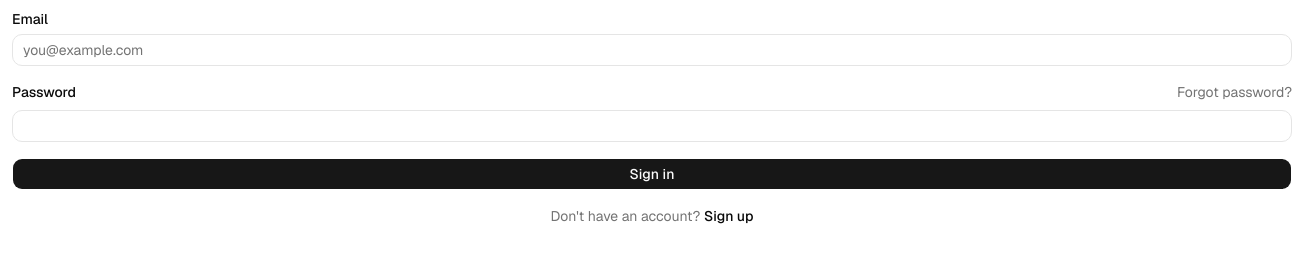
Test case: LoginForm › shows validation error for invalid email on blur
In the field labelled "Email": (652, 50) [12,34,1292,66], type "not-an-email"
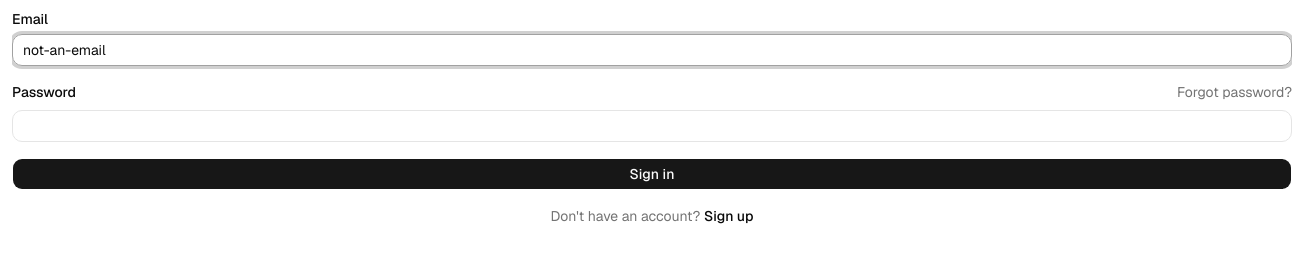
Press Tab
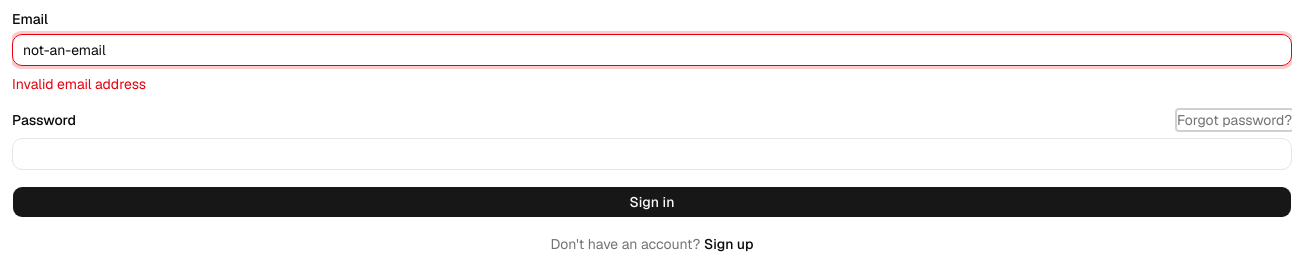
Expected: the text "Invalid email address" is shown, [12,75,146,93]
